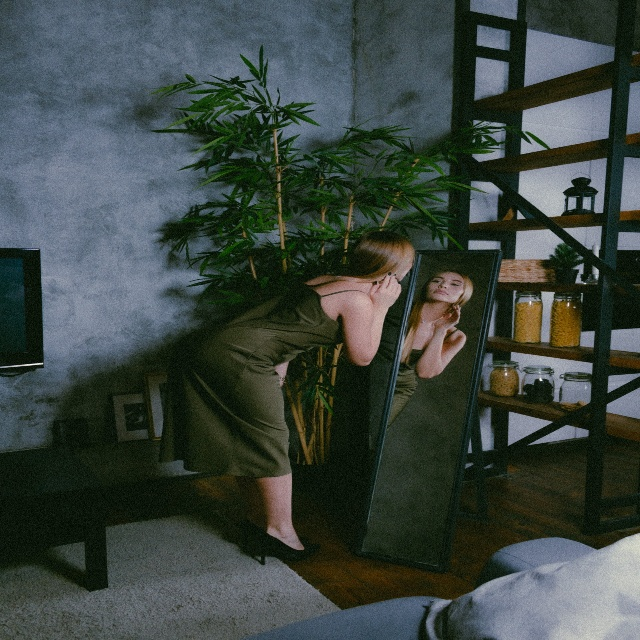Sin_guantes: (368, 271, 402, 309), (432, 306, 461, 329)
